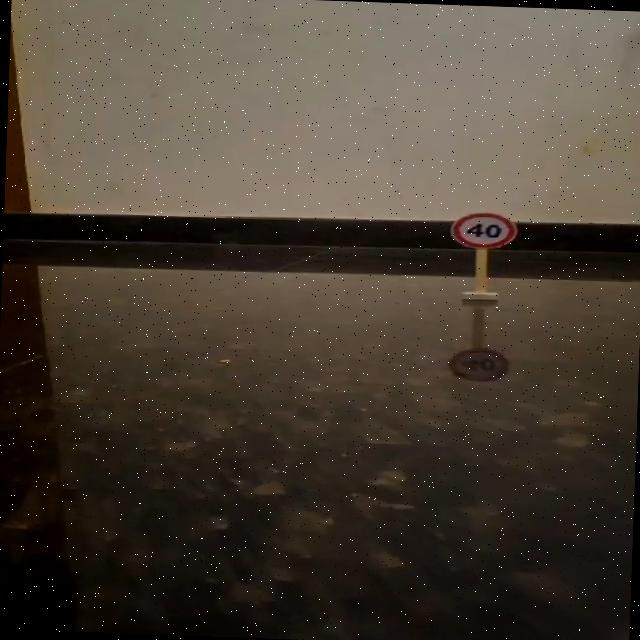Speed40: (446, 208, 521, 251)
